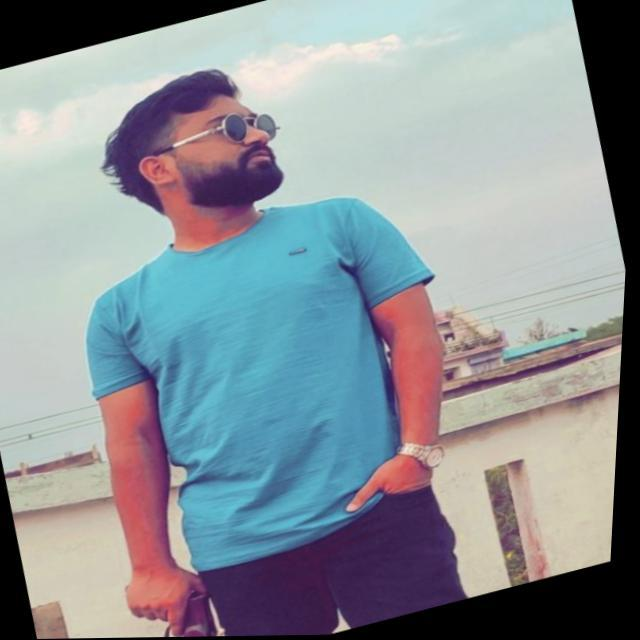weapon: (122, 563, 248, 638)
